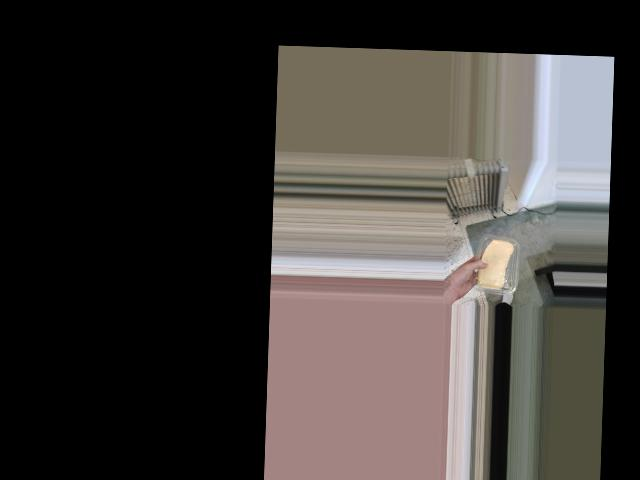cheese: (472, 232, 519, 294)
